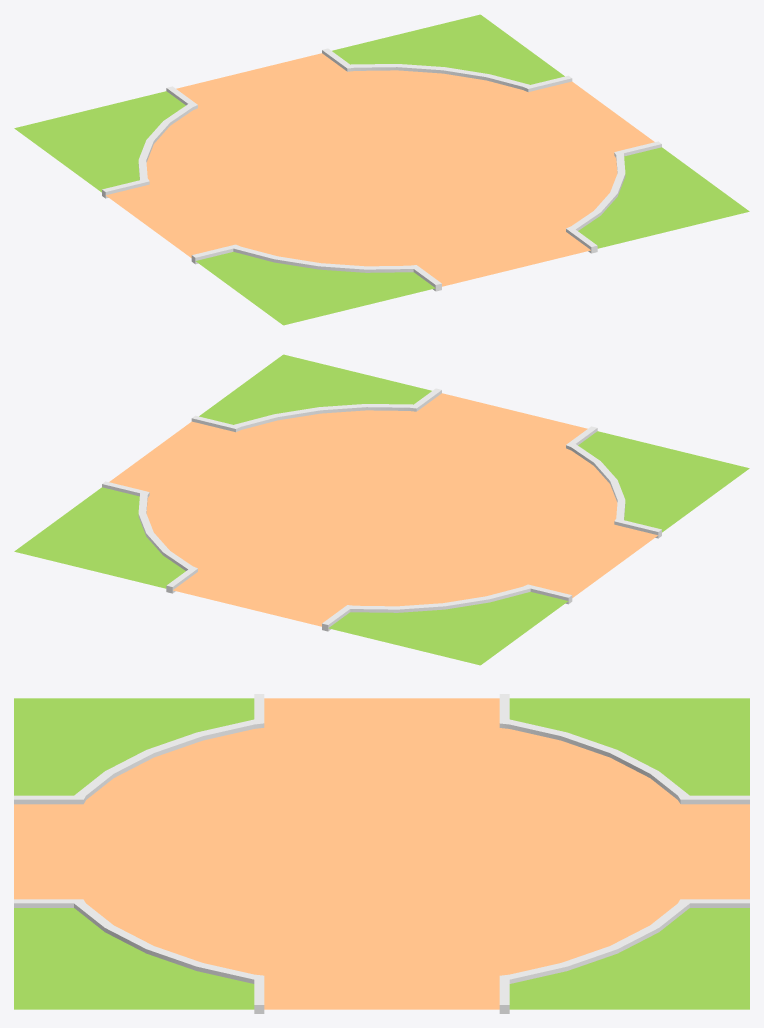
The model's file is park_road_001.glb.
3 renders of one model, top to bottom at view 1: azimuth 30°, elevation 25°; view 2: azimuth 150°, elevation 25°; view 3: azimuth 270°, elevation 25°, orthographic. The views are drawn at different scales.
Visible parts, largest first — view 1: park_road_001; view 2: park_road_001; view 3: park_road_001.
Boxes of the visible parts, box(x1,y1,x2,y2) form: park_road_001: box(14, 14, 749, 325); park_road_001: box(14, 354, 749, 665); park_road_001: box(14, 694, 749, 1013).
Bounding box in the file's own units: 15 × 0.2 × 15.
1 material, 1 textured.
